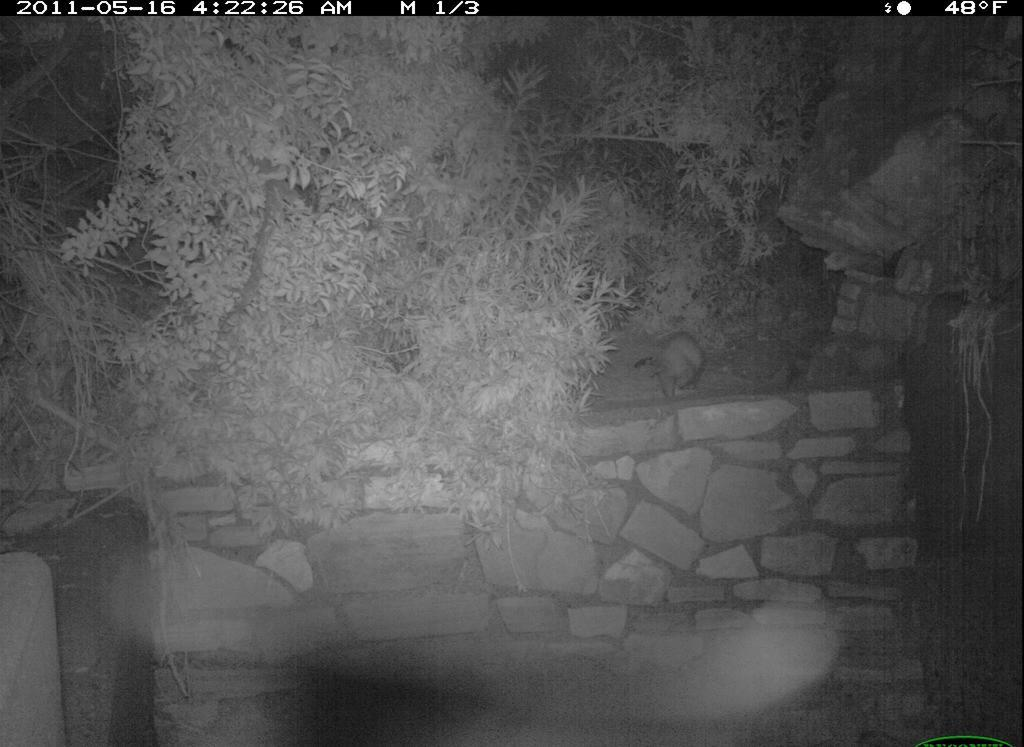opossum: (646, 326, 708, 411)
